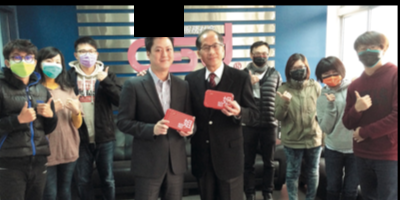with_mask: (9, 52, 37, 78), (358, 42, 383, 69), (41, 56, 63, 80), (77, 47, 96, 68), (289, 63, 308, 82), (324, 69, 343, 88), (253, 50, 268, 68)
without_mask: (150, 44, 176, 70), (200, 40, 222, 64)
